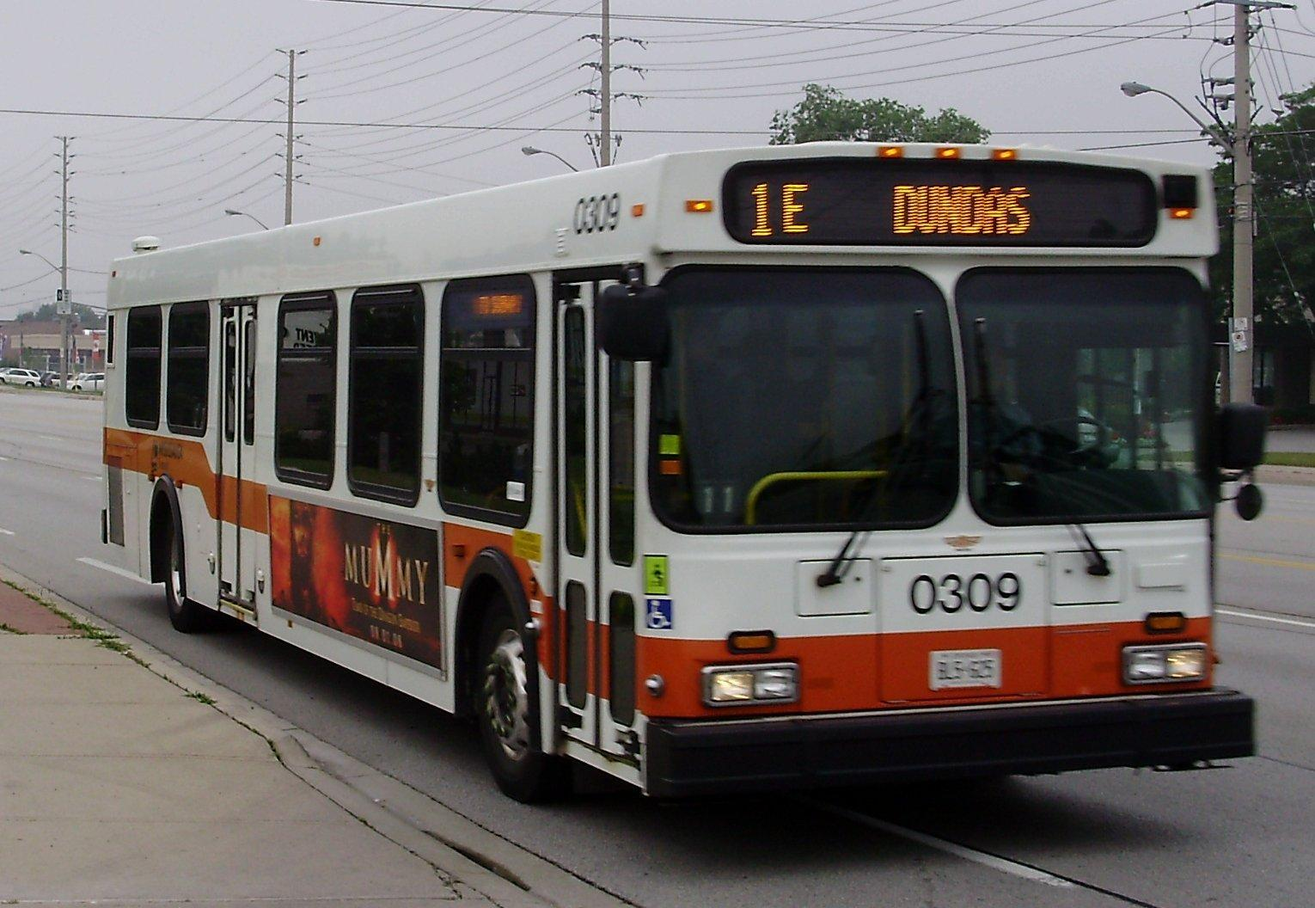Bus: (101, 142, 1256, 806)
